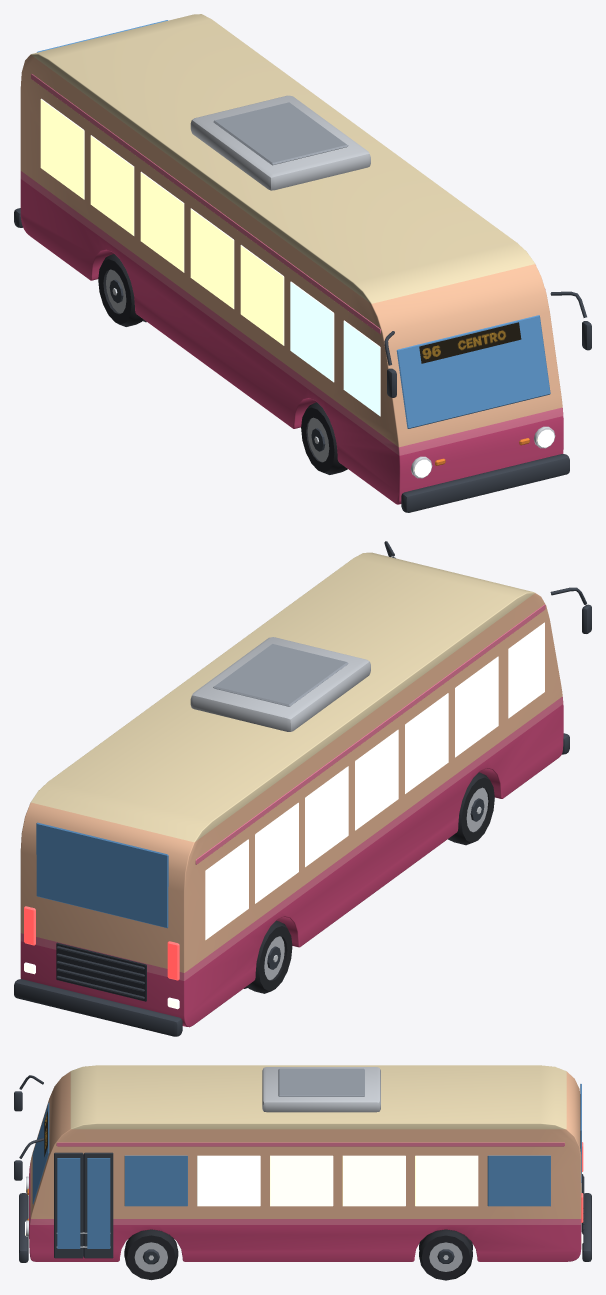
Rendered from onibus_rosa_creme.glb.
The picture shows the model from 3 angles, top to bottom: view 1: azimuth 30°, elevation 25°; view 2: azimuth 150°, elevation 25°; view 3: azimuth 270°, elevation 25°; orthographic projection. The views are drawn at different scales.
Parts seen in each view (by area): view 1: onibus_rosa_creme, roda_2, roda_1; view 2: onibus_rosa_creme, roda_2, roda_1; view 3: onibus_rosa_creme, porta_onibus_2, porta_onibus_1, roda_4, roda_3.
Boxes of the visible parts, x1=… form: onibus_rosa_creme: x1=14, y1=14, x2=591, y2=512; roda_2: x1=98, y1=254, x2=146, y2=326; roda_1: x1=301, y1=402, x2=347, y2=474; onibus_rosa_creme: x1=14, y1=541, x2=591, y2=1036; roda_2: x1=244, y1=920, x2=292, y2=993; roda_1: x1=448, y1=772, x2=494, y2=845; onibus_rosa_creme: x1=14, y1=1065, x2=591, y2=1262; porta_onibus_2: x1=84, y1=1152, x2=113, y2=1258; porta_onibus_1: x1=54, y1=1152, x2=83, y2=1258; roda_4: x1=419, y1=1229, x2=472, y2=1280; roda_3: x1=124, y1=1229, x2=178, y2=1280.
Bounding box in the file's own units: 3.13 × 3.5 × 10.69.
7 materials, 2 textured.
